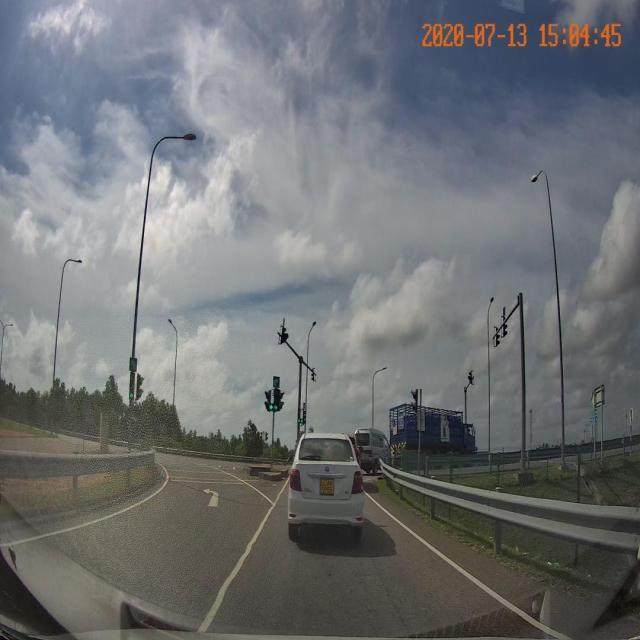Liniya 1: (364, 493, 571, 640), (196, 478, 289, 633), (5, 465, 169, 548)
Strelka vlevo: (200, 487, 219, 508)
